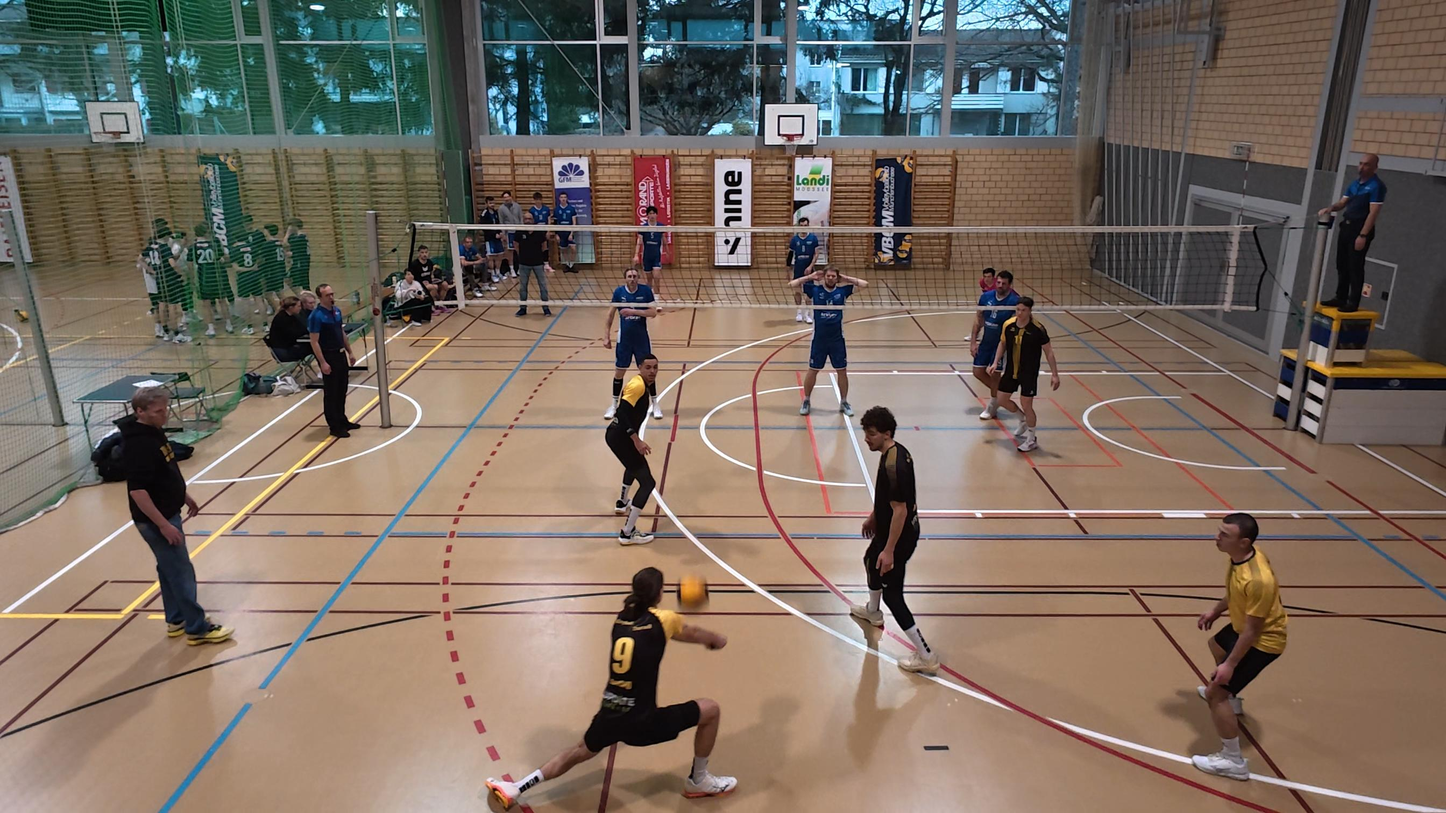ricezione: (484, 566, 740, 811)
